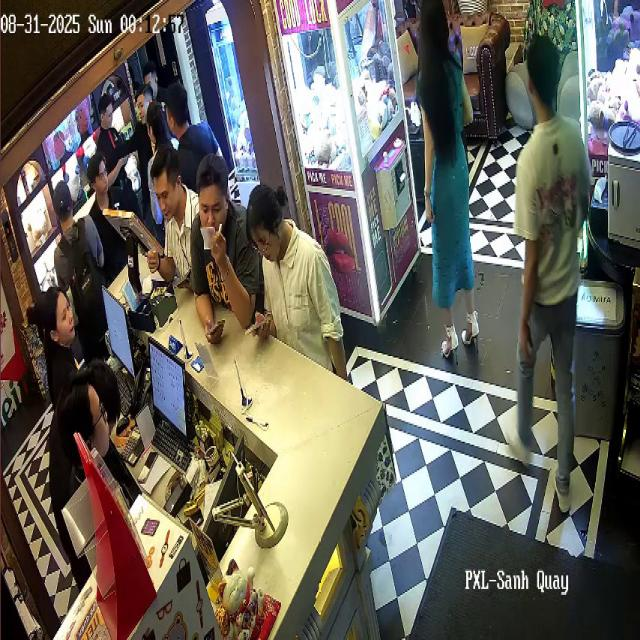khach: (515, 32, 588, 558), (407, 6, 491, 380), (245, 181, 346, 389), (195, 158, 259, 352), (145, 147, 205, 295), (51, 169, 108, 308), (168, 82, 216, 185), (147, 102, 180, 174)
nhan vien: (50, 376, 142, 626), (26, 275, 91, 385), (80, 142, 125, 228), (122, 76, 166, 154), (92, 93, 125, 163)
